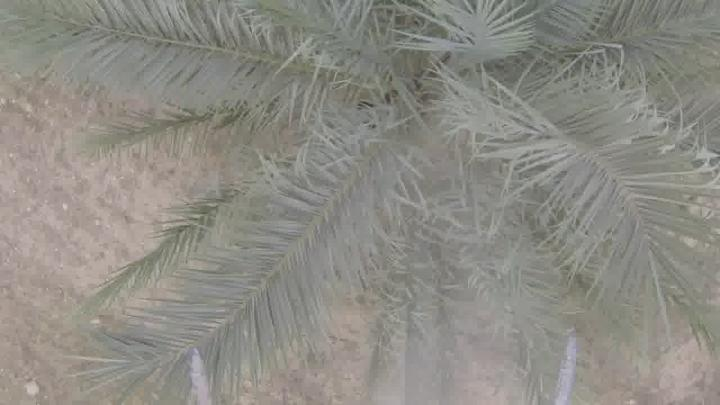Date-Palm-Crown: (184, 0, 636, 344)
